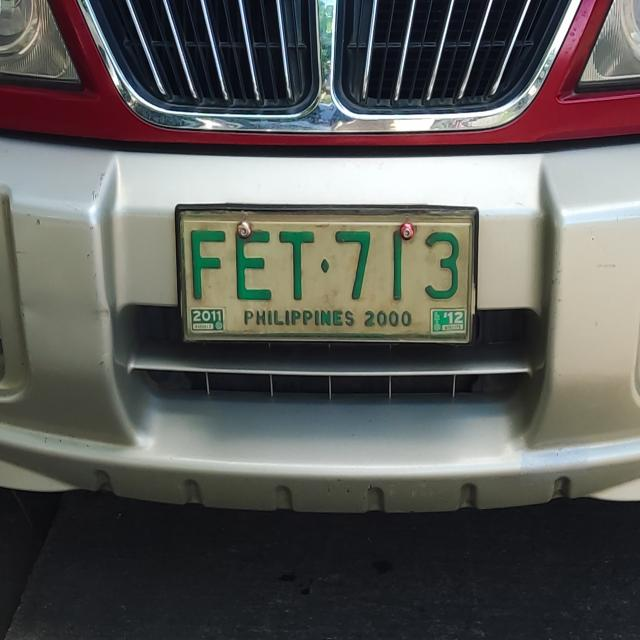plate: (174, 203, 480, 348)
